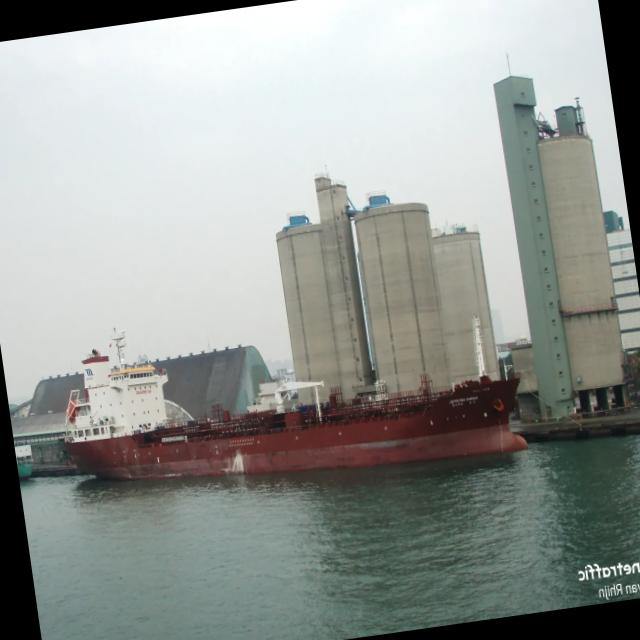Tanker: (66, 317, 526, 480)
